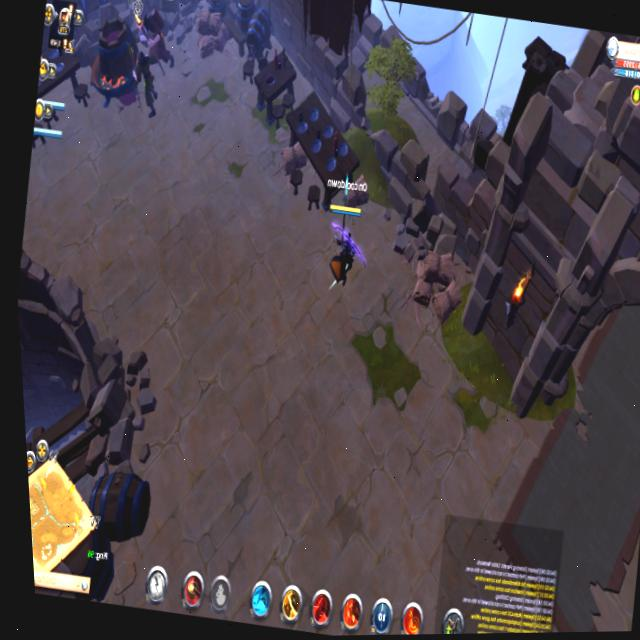ore: (111, 0, 187, 130)
red: (314, 198, 376, 296), (31, 123, 69, 148), (35, 92, 69, 116)
